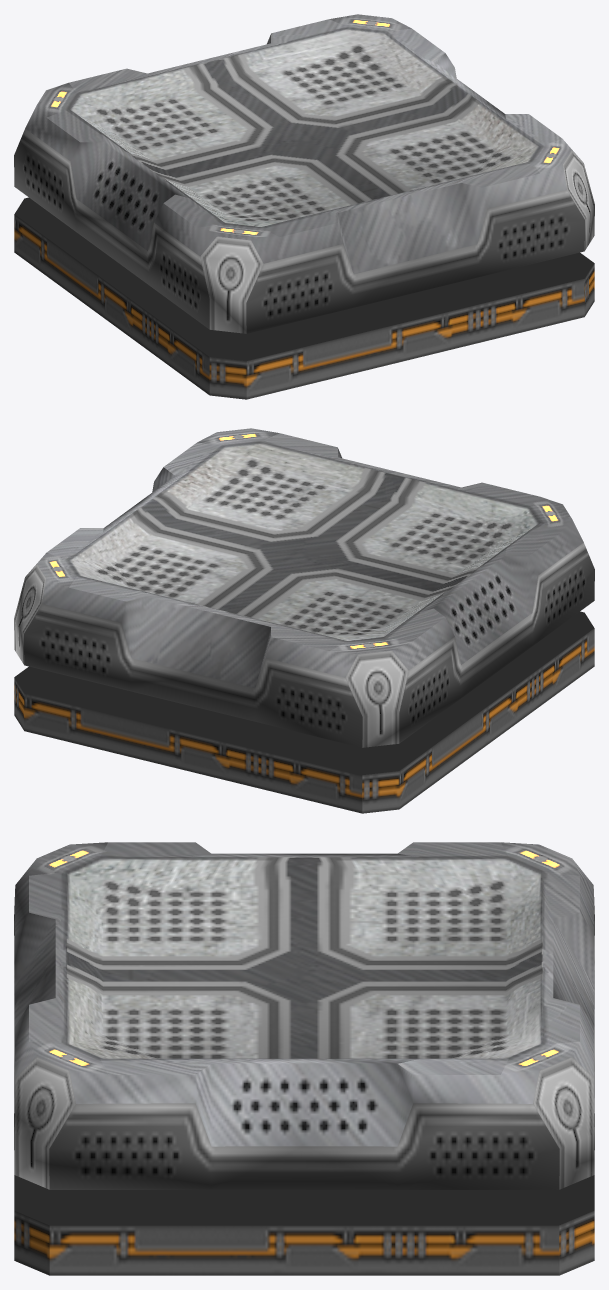
Rendered from depot.glb.
The picture shows the model from 3 angles, top to bottom: view 1: azimuth 30°, elevation 25°; view 2: azimuth 150°, elevation 25°; view 3: azimuth 270°, elevation 25°; orthographic projection. The views are drawn at different scales.
Visible parts, largest first — view 1: Plane.019; view 2: Plane.019; view 3: Plane.019.
Part boxes in pixels (left/top/right/bottom): Plane.019: left=14, top=14, right=594, bottom=399; Plane.019: left=14, top=428, right=594, bottom=813; Plane.019: left=14, top=842, right=594, bottom=1275.
Bounding box in the file's own units: 10 × 3.71 × 10.
Materials: 1 (1 with a texture image).
